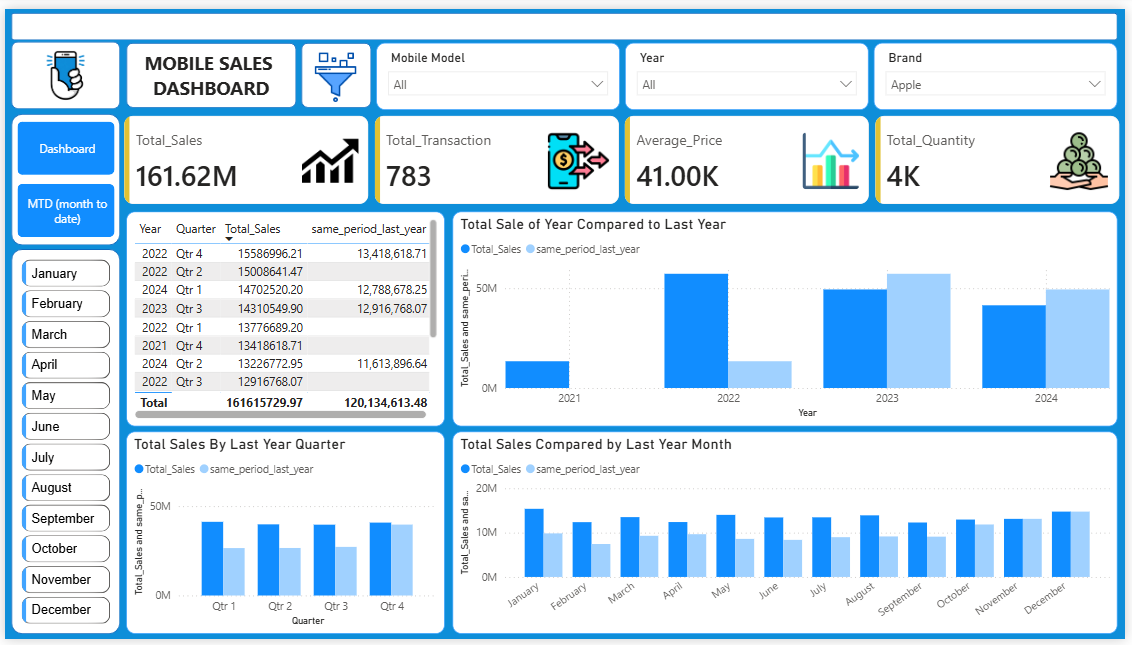

The page's visual inventory and layout, read from the dashboard file:
{"tool":"powerbi","page":{"name":"Same period last year","canvas":[1280,720],"ordinal":2},"visuals":[{"type":"shape","box":[7.1,37.1,124.3,77.1],"z":0},{"type":"image","box":[37.1,41.4,64.3,68.6],"z":1000},{"type":"shape","box":[7.1,120,124.3,150],"z":2000},{"type":"shape","box":[7.1,274.3,124.3,440],"z":3000},{"type":"advancedSlicerVisual","fields":{"Values":["custom_calander.Date.Variation.Date Hierarchy.Month"]},"box":[14.3,281.4,111.4,432.9],"z":4000},{"type":"cardVisual","fields":{"Data":["Sales_data.Total_Sales","Sales_data.Total_Transaction","Sales_data.Average_Price","Sales_data.Total_Quantity"]},"box":[131.4,117.1,1148.6,111.4],"z":5000},{"type":"slicer","fields":{"Values":["Sales_data.Mobile Model"]},"box":[424.3,38.6,278.6,77.1],"z":6000},{"type":"slicer","fields":{"Values":["custom_calander.Date.Variation.Date Hierarchy.Year"]},"box":[708.6,38.6,278.6,77.1],"z":7000},{"type":"slicer","fields":{"Values":["Sales_data.Brand"]},"box":[992.9,38.6,278.6,77.1],"z":8000},{"type":"shape","box":[338.6,38.6,80,74.3],"z":9000},{"type":"image","box":[348.6,45.7,58.6,64.3],"z":10000},{"type":"shape","box":[138.6,38.6,194.3,74.3],"z":11000},{"type":"textbox","box":[138.8,41.2,193.8,72.5],"z":12000},{"type":"shape","box":[7.1,4.3,1264.3,31.4],"z":13000},{"type":"tableEx","fields":{"Values":["custom_calander.Date.Variation.Date Hierarchy.Year","custom_calander.Date.Variation.Date Hierarchy.Quarter","Sales_data.Total_Sales","Sales_data.same_period_last_year"]},"box":[138.6,231.4,364.3,245.7],"z":14000},{"type":"clusteredColumnChart","title":"Total Sale of Year Compared to Last Year","fields":{"Category":["custom_calander.Date.Variation.Date Hierarchy.Year","custom_calander.Date.Variation.Date Hierarchy.Quarter"],"Y":["Sales_data.Total_Sales","Sales_data.same_period_last_year"]},"box":[511.4,231.4,760,245.7],"z":15000},{"type":"clusteredColumnChart","title":"Total Sales By Last Year Quarter","fields":{"Category":["custom_calander.Date.Variation.Date Hierarchy.Quarter"],"Y":["Sales_data.Total_Sales","Sales_data.same_period_last_year"]},"box":[138.6,482.9,364.3,231.4],"z":16000},{"type":"clusteredColumnChart","title":"Total Sales Compared by Last Year Month","fields":{"Category":["custom_calander.Date.Variation.Date Hierarchy.Month"],"Y":["Sales_data.Total_Sales","Sales_data.same_period_last_year"]},"box":[511.4,482.9,760,231.4],"z":17000},{"type":"pageNavigator","box":[14.3,128.6,111.4,132.9],"z":18000}]}

Visuals, with their boxes in screenshot pixels (x1, y1, x2, y2), scaled from the page's 1280x720 canvas onto the 1132x645 screenshot:
shape: rect(6, 33, 116, 102)
image: rect(33, 37, 90, 99)
shape: rect(6, 108, 116, 242)
shape: rect(6, 246, 116, 640)
advancedSlicerVisual - custom_calander.Date.Variation.Date Hierarchy.Month: rect(13, 252, 111, 640)
cardVisual - Sales_data.Total_Sales x Sales_data.Total_Transaction: rect(116, 105, 1131, 205)
slicer - Sales_data.Mobile Model: rect(375, 35, 622, 104)
slicer - custom_calander.Date.Variation.Date Hierarchy.Year: rect(627, 35, 873, 104)
slicer - Sales_data.Brand: rect(878, 35, 1124, 104)
shape: rect(299, 35, 370, 101)
image: rect(308, 41, 360, 99)
shape: rect(123, 35, 294, 101)
textbox: rect(123, 37, 294, 102)
shape: rect(6, 4, 1124, 32)
tableEx - custom_calander.Date.Variation.Date Hierarchy.Year x custom_calander.Date.Variation.Date Hierarchy.Quarter: rect(123, 207, 445, 427)
"Total Sale of Year Compared to Last Year" clusteredColumnChart: rect(452, 207, 1124, 427)
"Total Sales By Last Year Quarter" clusteredColumnChart: rect(123, 433, 445, 640)
"Total Sales Compared by Last Year Month" clusteredColumnChart: rect(452, 433, 1124, 640)
pageNavigator: rect(13, 115, 111, 234)
